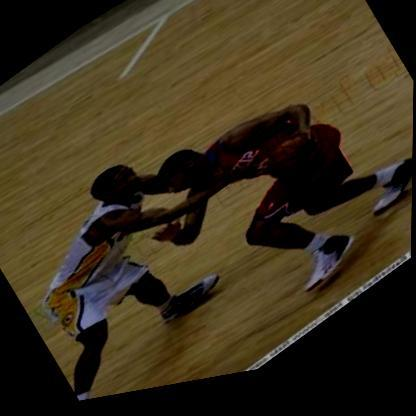basketball: (252, 127, 331, 208)
